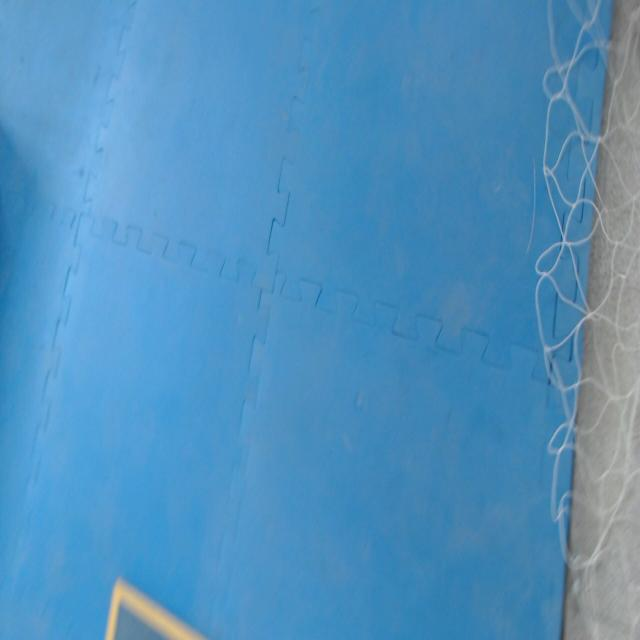base_pouso: (105, 576, 213, 639)
